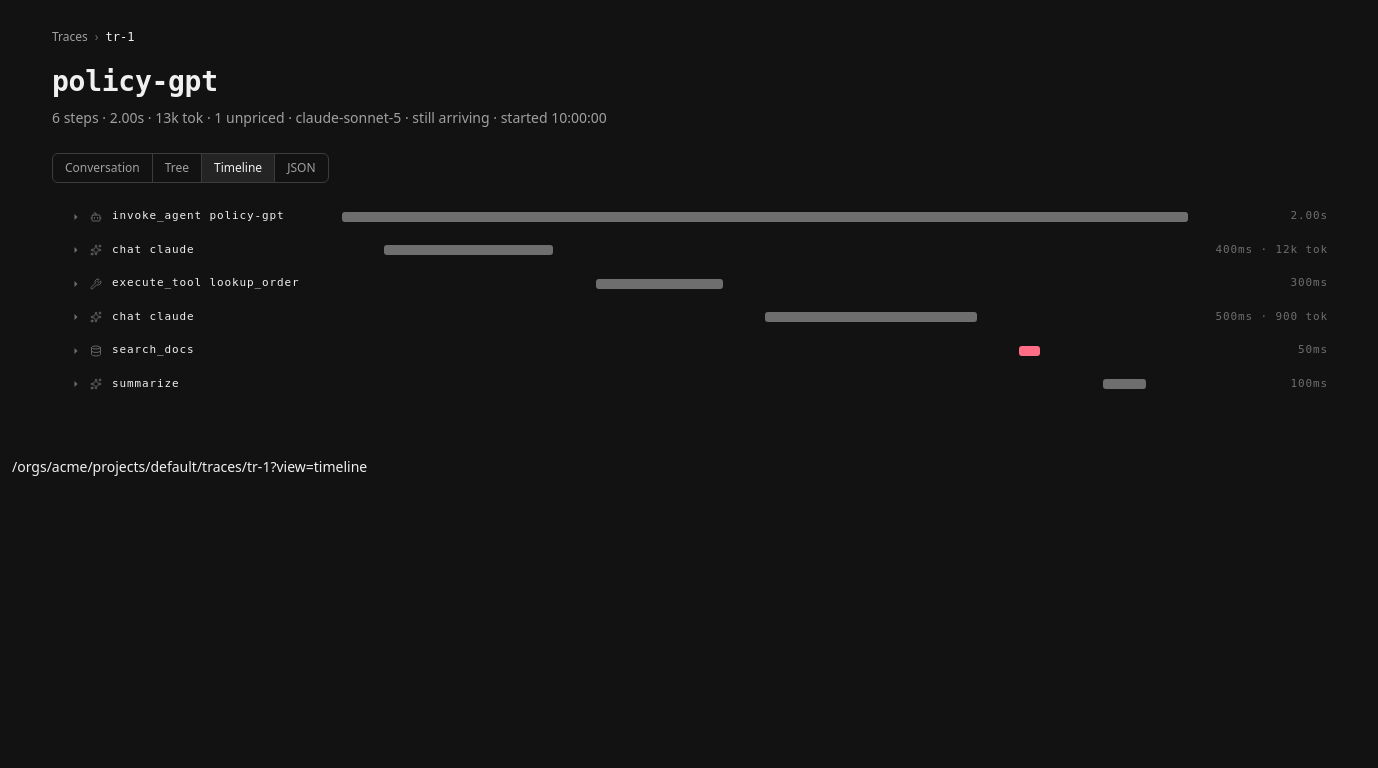
Test: Timeline › draws one bar per span and opens a tool step's arguments and result
Click the button titled "tool · execute_tool lookup_order": (709, 284) [90, 276, 1328, 292]
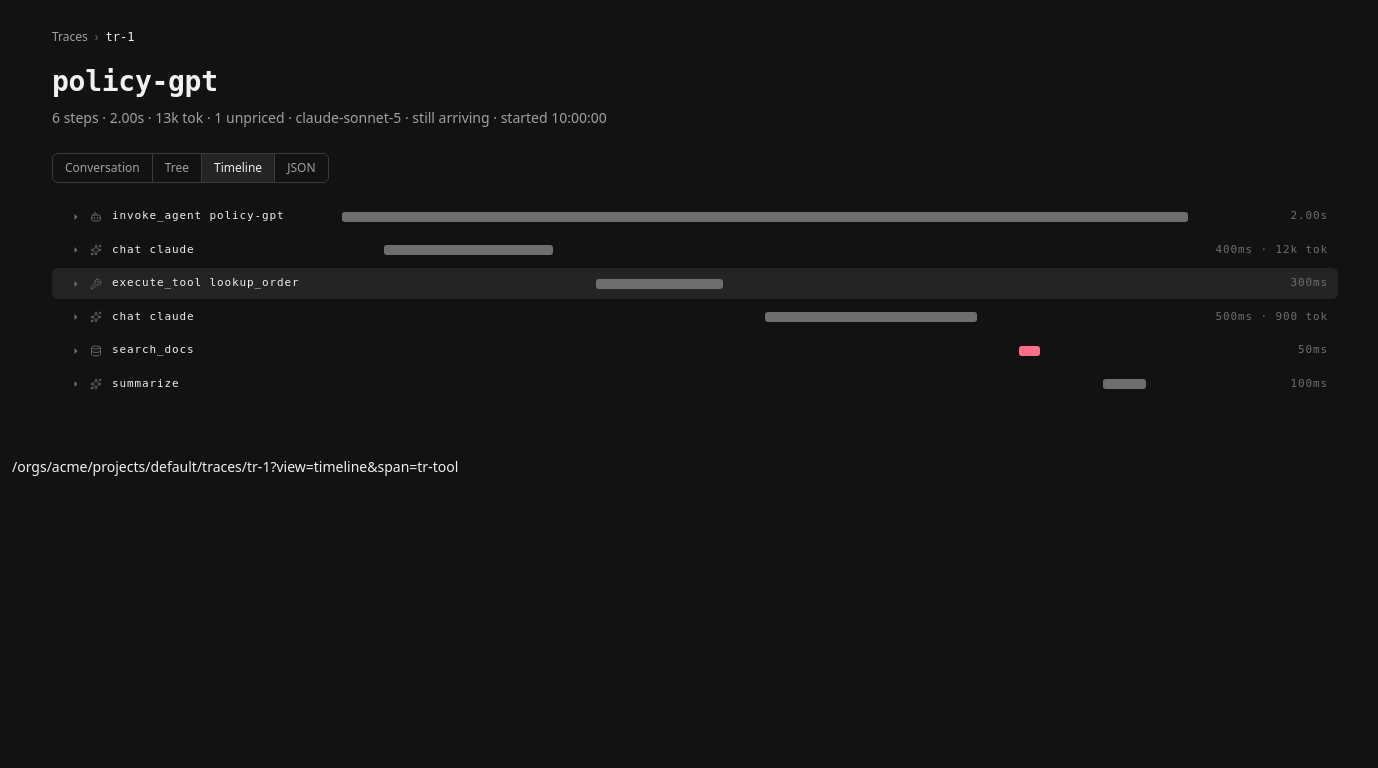
Expected: the element titled "300ms" is shown, [596, 279, 723, 289]
Click the 3rd button named "Show payloads": (76, 284) [70, 278, 82, 290]
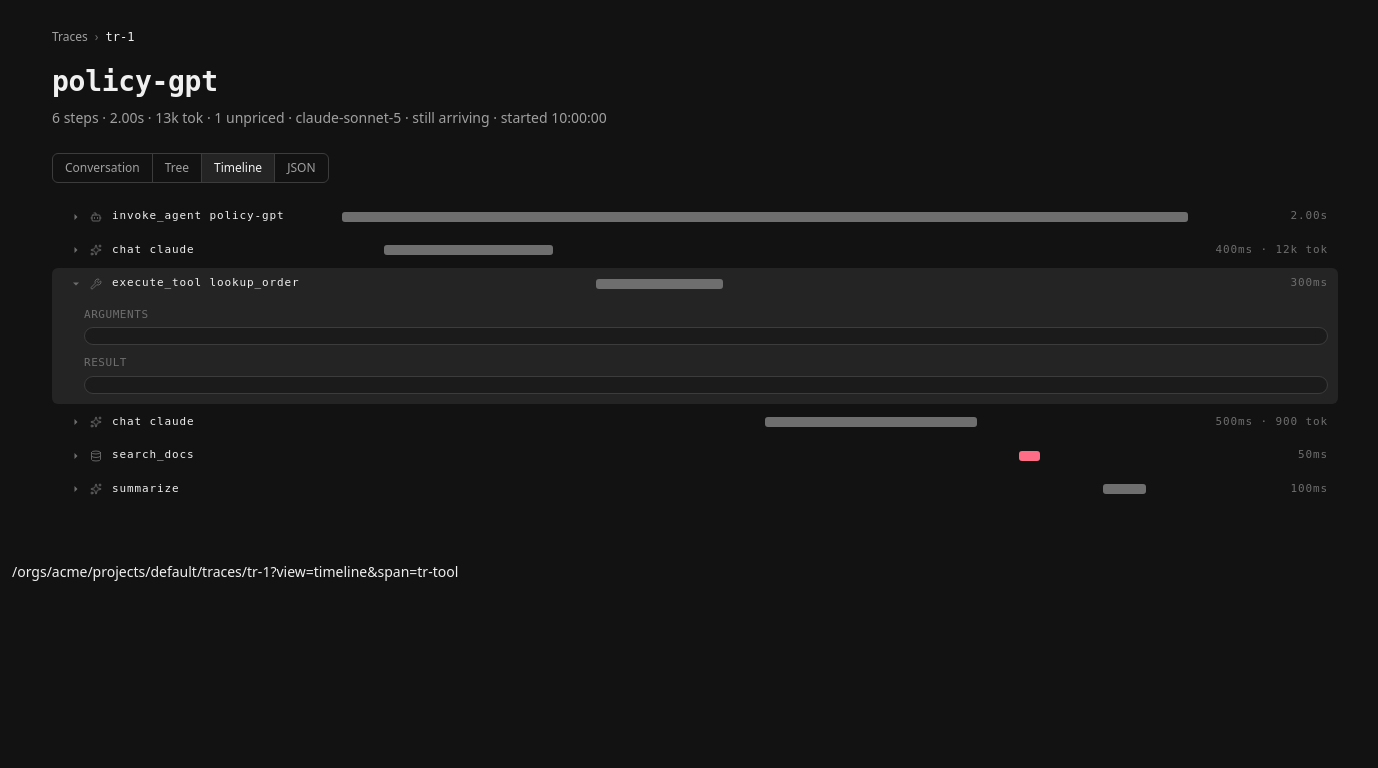
Now the text "Arguments" is shown, box [84, 308, 149, 321]
